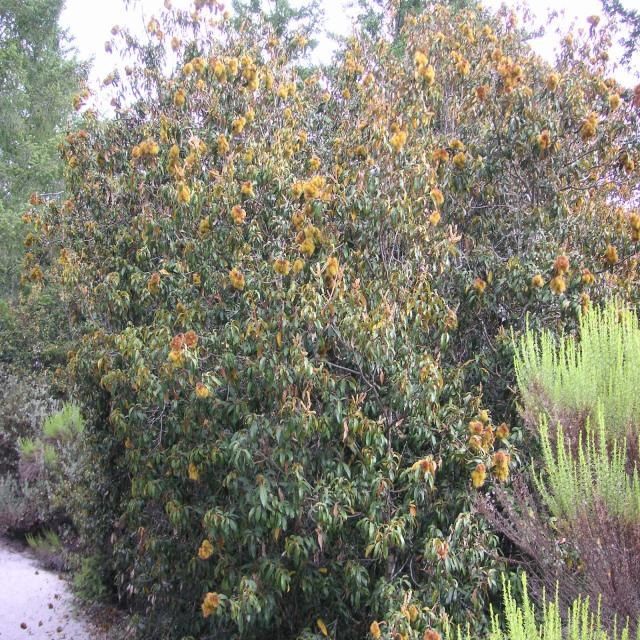Chrysolepis chrysophylla: (25, 14, 507, 620)
